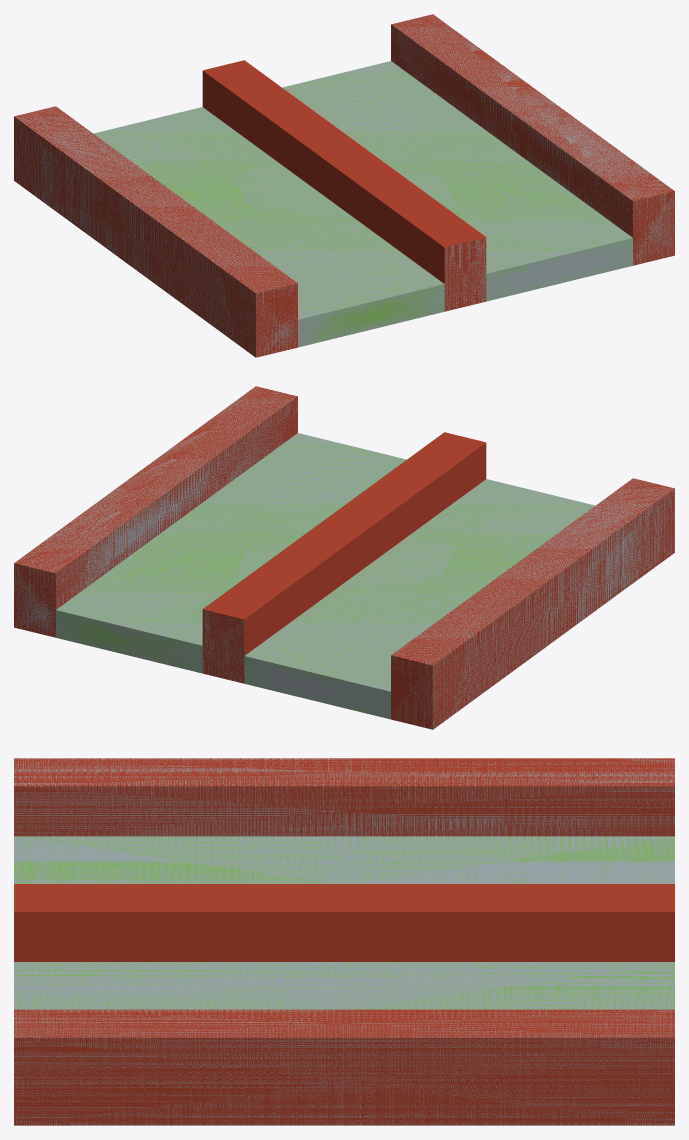
The model's file is Split_01.obj.
3 renders of one model, top to bottom at view 1: azimuth 30°, elevation 25°; view 2: azimuth 150°, elevation 25°; view 3: azimuth 270°, elevation 25°, orthographic. The views are drawn at different scales.
Visible parts, largest first — view 1: Mesh1 Split Model; view 2: Mesh1 Split Model; view 3: Mesh1 Split Model.
Boxes of the visible parts, x1,y1,x2,y2 form: Mesh1 Split Model: (14,14,674,357); Mesh1 Split Model: (14,386,674,729); Mesh1 Split Model: (14,758,674,1125).
Size of the model in its own units: 3 by 0.44 by 3.
